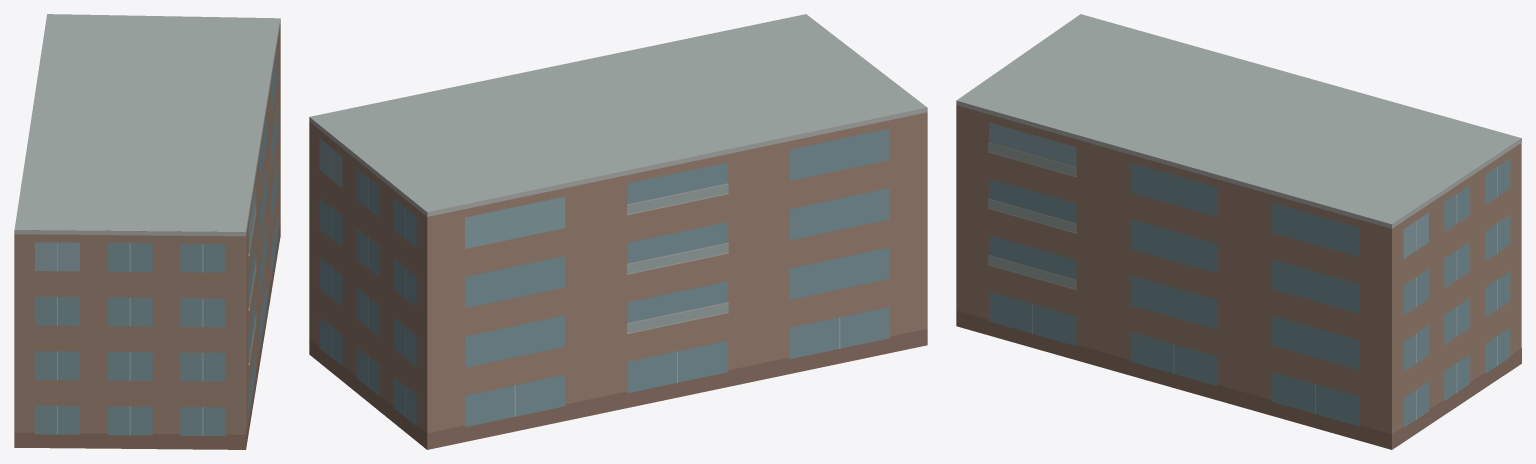
File: survey-upis-32959313.glb
3 renders of one model, left to right at view 1: azimuth 30°, elevation 25°; view 2: azimuth 150°, elevation 25°; view 3: azimuth 270°, elevation 25°, orthographic. The views are drawn at different scales.
Parts seen in each view (by area): view 1: survey-upis-32959313.tmp; view 2: survey-upis-32959313.tmp; view 3: survey-upis-32959313.tmp.
Part boxes in pixels (<box>): survey-upis-32959313.tmp: <box>14,14,280,449</box>; survey-upis-32959313.tmp: <box>309,14,927,449</box>; survey-upis-32959313.tmp: <box>956,14,1521,449</box>.
Size of the model in its own units: 24.61 by 12.3 by 27.96.
